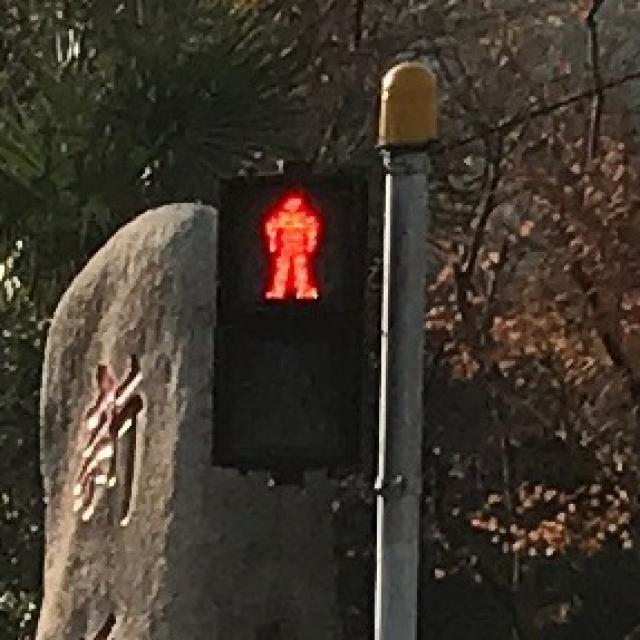red_light: (238, 178, 339, 314)
